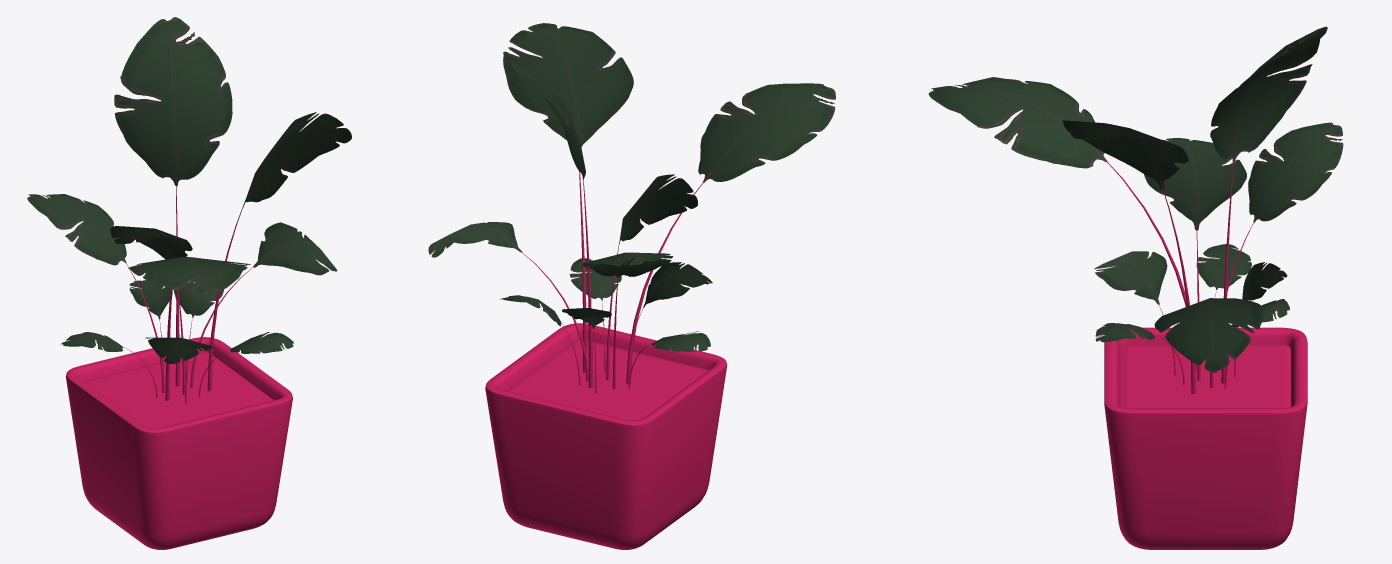
The model's file is SM_PlantSmall.fbx.
The picture shows the model from 3 angles, left to right: view 1: azimuth 30°, elevation 25°; view 2: azimuth 150°, elevation 25°; view 3: azimuth 270°, elevation 25°; orthographic projection. The views are drawn at different scales.
Visible parts, largest first — view 1: Plant_Small_lp, Foliage_SmallLeaf_1_7, Foliage_SmallLeaf_2_6, Foliage_SmallLeaf_1_8, Foliage_SmallLeaf_1_6, Foliage_SmallLeaf_2_8, Foliage_SmallLeaf_2_7, Foliage_SmallLeaf_2_9, Foliage_SmallLeaf_2_10, Foliage_SmallLeaf_1_9, Foliage_SmallLeaf_1_11, Foliage_SmallLeaf_1_10; view 2: Plant_Small_lp, Foliage_SmallLeaf_2_6, Foliage_SmallLeaf_1_6, Foliage_SmallLeaf_2_7, Foliage_SmallLeaf_2_9, Foliage_SmallLeaf_2_8, Foliage_SmallLeaf_1_8, Foliage_SmallLeaf_1_7, Foliage_SmallLeaf_1_9, Foliage_SmallLeaf_1_10; view 3: Plant_Small_lp, Foliage_SmallLeaf_1_6, Foliage_SmallLeaf_1_7, Foliage_SmallLeaf_1_8, Foliage_SmallLeaf_2_8, Foliage_SmallLeaf_2_7, Foliage_SmallLeaf_2_6, Foliage_SmallLeaf_2_9, Foliage_SmallLeaf_1_10, Foliage_SmallLeaf_2_10, Foliage_SmallLeaf_1_9.
Boxes of the visible parts, bbox=[...] form: Plant_Small_lp: bbox=[65, 181, 292, 549]; Foliage_SmallLeaf_1_7: bbox=[114, 17, 232, 186]; Foliage_SmallLeaf_2_6: bbox=[243, 112, 351, 207]; Foliage_SmallLeaf_1_8: bbox=[27, 194, 126, 265]; Foliage_SmallLeaf_1_6: bbox=[128, 256, 250, 294]; Foliage_SmallLeaf_2_8: bbox=[253, 222, 337, 275]; Foliage_SmallLeaf_2_7: bbox=[110, 226, 192, 259]; Foliage_SmallLeaf_2_9: bbox=[145, 337, 213, 363]; Foliage_SmallLeaf_2_10: bbox=[129, 280, 172, 319]; Foliage_SmallLeaf_1_9: bbox=[230, 332, 293, 353]; Foliage_SmallLeaf_1_11: bbox=[173, 279, 223, 317]; Foliage_SmallLeaf_1_10: bbox=[60, 332, 124, 351]; Plant_Small_lp: bbox=[485, 171, 727, 549]; Foliage_SmallLeaf_2_6: bbox=[503, 23, 633, 147]; Foliage_SmallLeaf_1_6: bbox=[698, 83, 835, 182]; Foliage_SmallLeaf_2_7: bbox=[619, 174, 697, 244]; Foliage_SmallLeaf_2_9: bbox=[643, 262, 712, 307]; Foliage_SmallLeaf_2_8: bbox=[428, 222, 522, 257]; Foliage_SmallLeaf_1_8: bbox=[582, 252, 672, 277]; Foliage_SmallLeaf_1_7: bbox=[507, 60, 585, 180]; Foliage_SmallLeaf_1_9: bbox=[569, 258, 621, 299]; Foliage_SmallLeaf_1_10: bbox=[651, 331, 710, 352]; Plant_Small_lp: bbox=[1098, 152, 1307, 549]; Foliage_SmallLeaf_1_6: bbox=[928, 77, 1107, 168]; Foliage_SmallLeaf_1_7: bbox=[1210, 26, 1327, 161]; Foliage_SmallLeaf_1_8: bbox=[1248, 122, 1343, 222]; Foliage_SmallLeaf_2_8: bbox=[1154, 298, 1263, 371]; Foliage_SmallLeaf_2_7: bbox=[1144, 138, 1246, 230]; Foliage_SmallLeaf_2_6: bbox=[1062, 120, 1188, 189]; Foliage_SmallLeaf_2_9: bbox=[1094, 251, 1167, 304]; Foliage_SmallLeaf_1_10: bbox=[1196, 244, 1251, 289]; Foliage_SmallLeaf_2_10: bbox=[1242, 262, 1287, 300]; Foliage_SmallLeaf_1_9: bbox=[1095, 323, 1155, 342].
Size of the model in its own units: 4.8 by 6.78 by 5.56.
